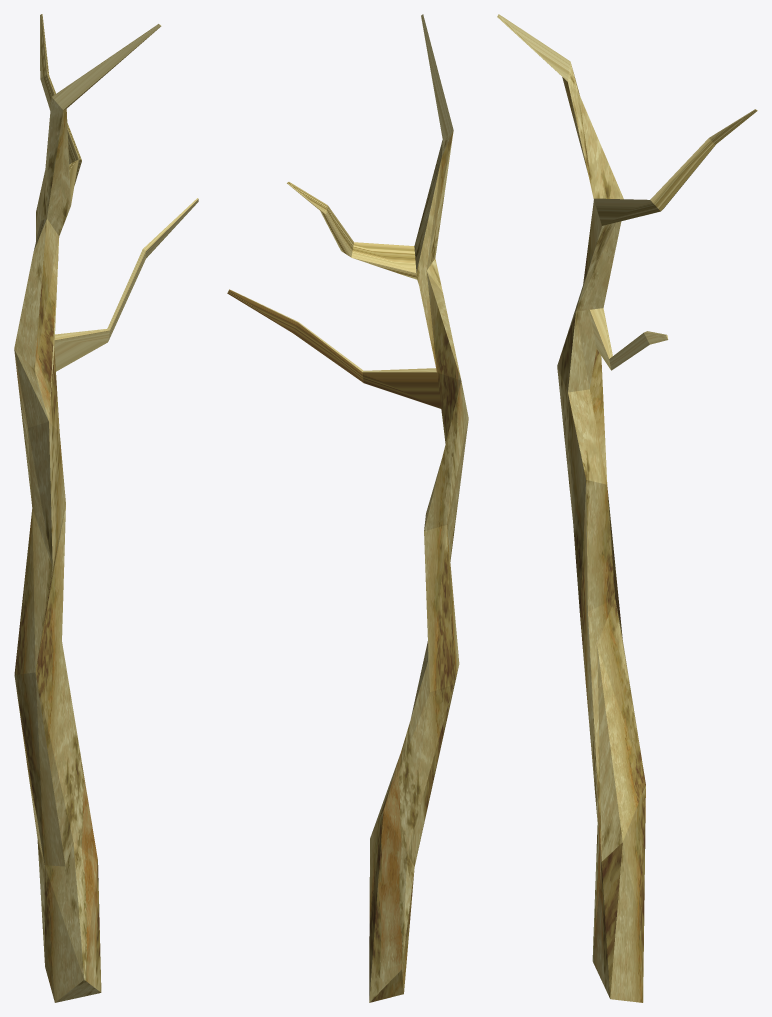
The model's file is TheOctagon_Euc_3.gltf.
3 renders of one model, left to right at view 1: azimuth 30°, elevation 25°; view 2: azimuth 150°, elevation 25°; view 3: azimuth 270°, elevation 25°, orthographic. The views are drawn at different scales.
Visible parts, largest first — view 1: TheOctagon_Euc_3; view 2: TheOctagon_Euc_3; view 3: TheOctagon_Euc_3.
Part boxes in pixels (x1,y1,x2,y2): TheOctagon_Euc_3: [14, 14, 198, 1002]; TheOctagon_Euc_3: [227, 14, 468, 1002]; TheOctagon_Euc_3: [497, 14, 757, 1002].
Size of the model in its own units: 5.23 by 23.19 by 5.5.
1 material, 1 textured.
